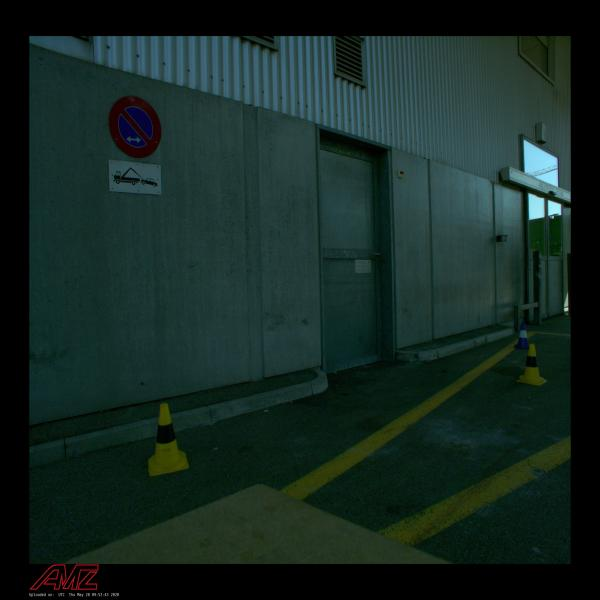blue_cone: (514, 323, 529, 350)
yellow_cone: (148, 404, 189, 476), (516, 344, 547, 386)
